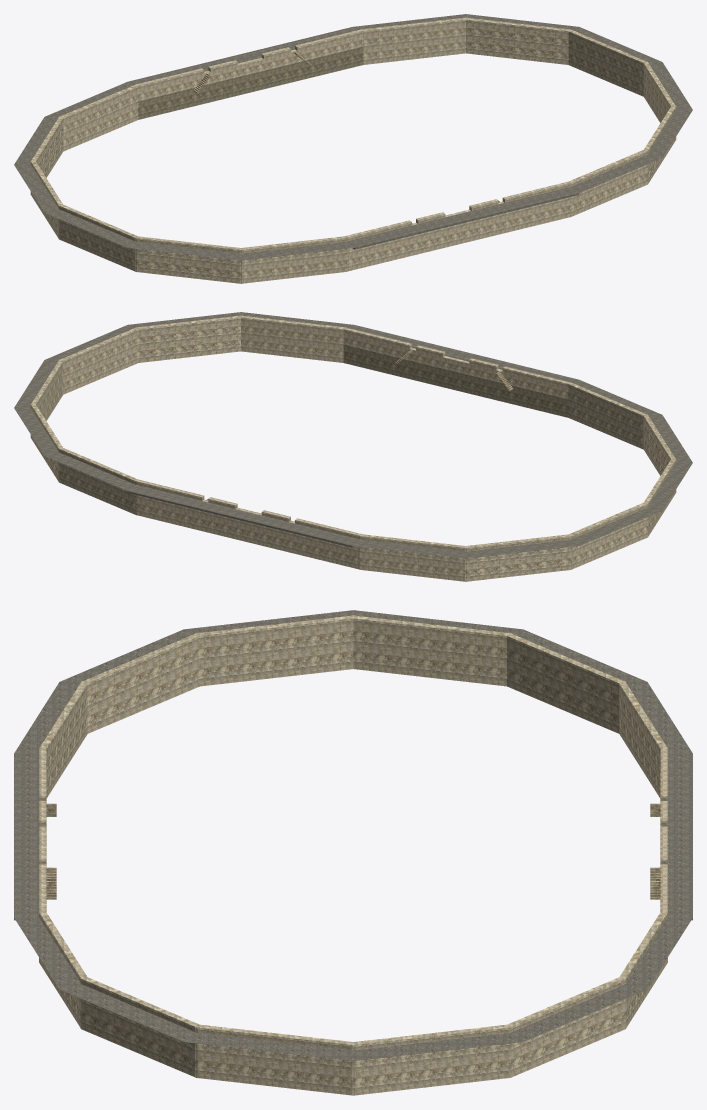
The model's file is bw-quay.bw-v1.lod0.glb.
3 views of the same model, one above another, from view 1: azimuth 30°, elevation 25°; view 2: azimuth 150°, elevation 25°; view 3: azimuth 270°, elevation 25° (orthographic). The views are drawn at different scales.
Parts seen in each view (by area): view 1: bw-quay; view 2: bw-quay; view 3: bw-quay.
Boxes of the visible parts, <box> form: bw-quay: <box>14,14,692,283</box>; bw-quay: <box>14,312,692,581</box>; bw-quay: <box>14,610,692,1095</box>.
Bounding box in the file's own units: 151 × 7.9 × 96.19.
Materials: 2 (2 with a texture image).
